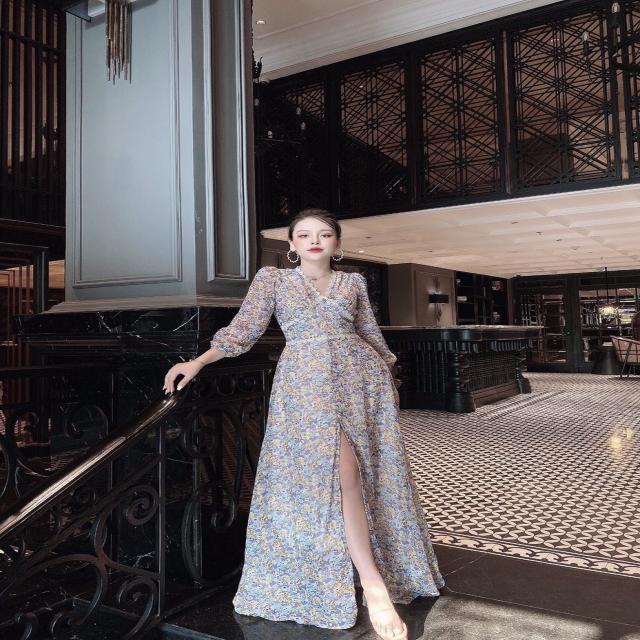clothes: (210, 259, 444, 623)
